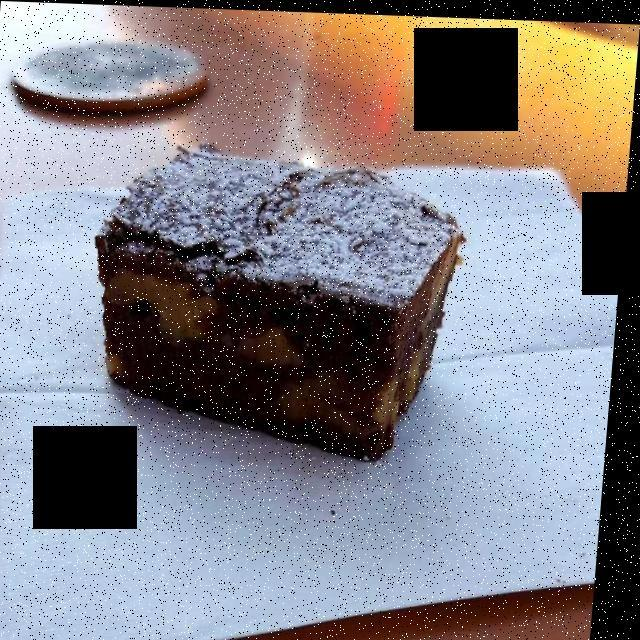cake: (101, 137, 466, 454)
